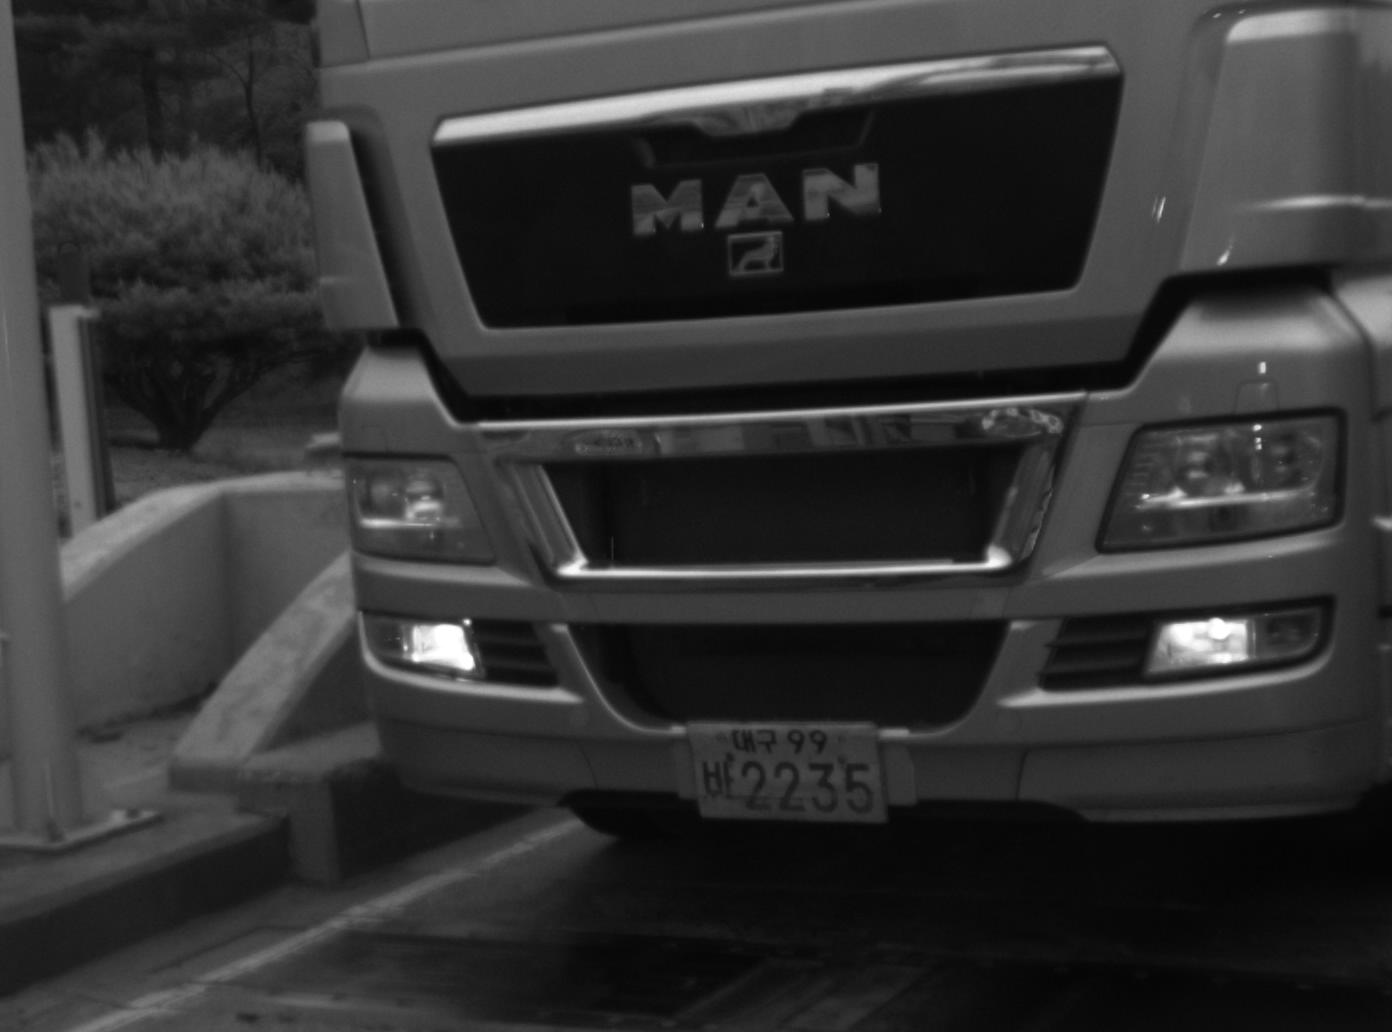car: (299, 1, 1389, 853)
plate: (680, 720, 890, 824)
